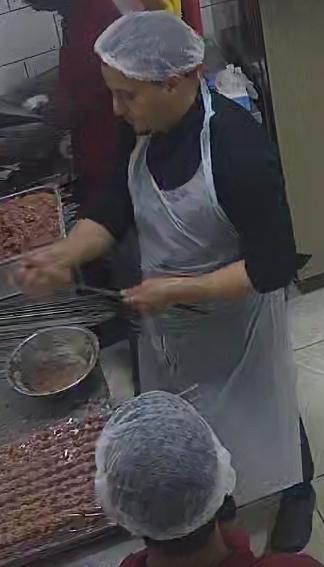apron: (89, 33, 262, 334)
